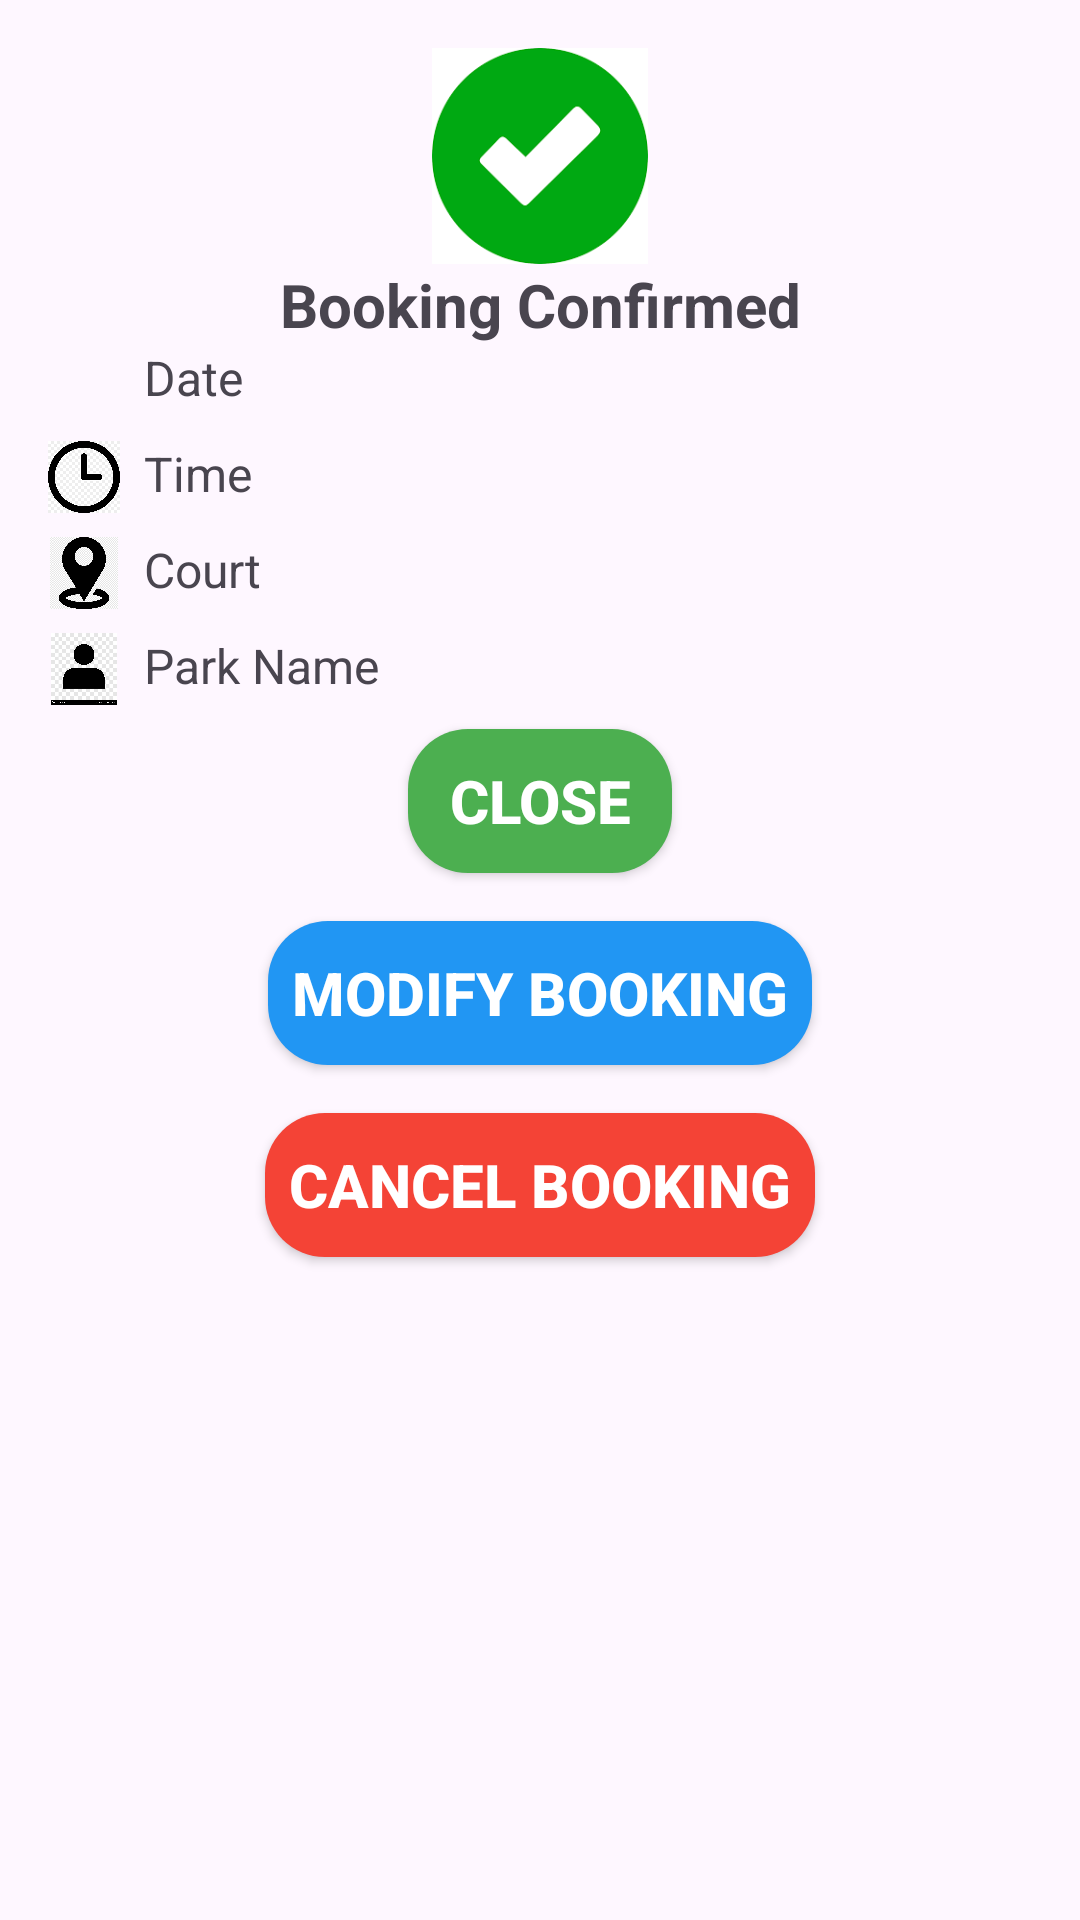

Named icons in this screenshot (1080w x 1920h) and their bounding boxes, (x1, y1, x2, y2):
clock: (48, 441, 120, 513)
location: (50, 537, 118, 609)
user: (51, 633, 117, 705)
